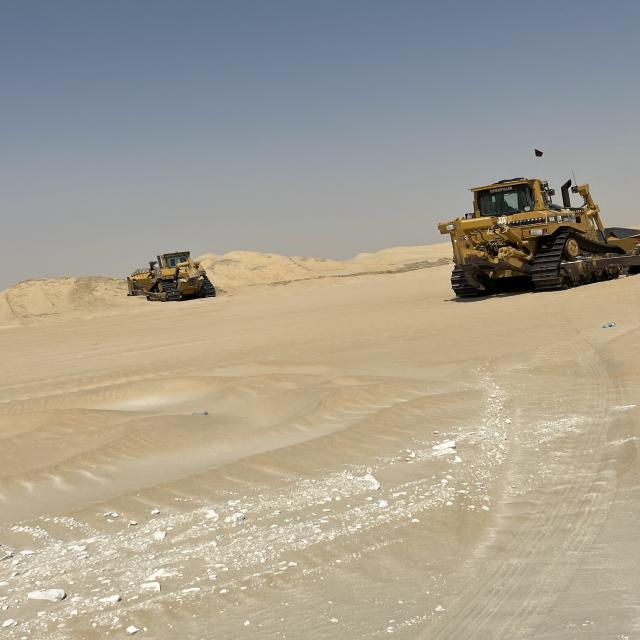buldozerpayloadergrader: (434, 173, 640, 302), (121, 242, 216, 318)
